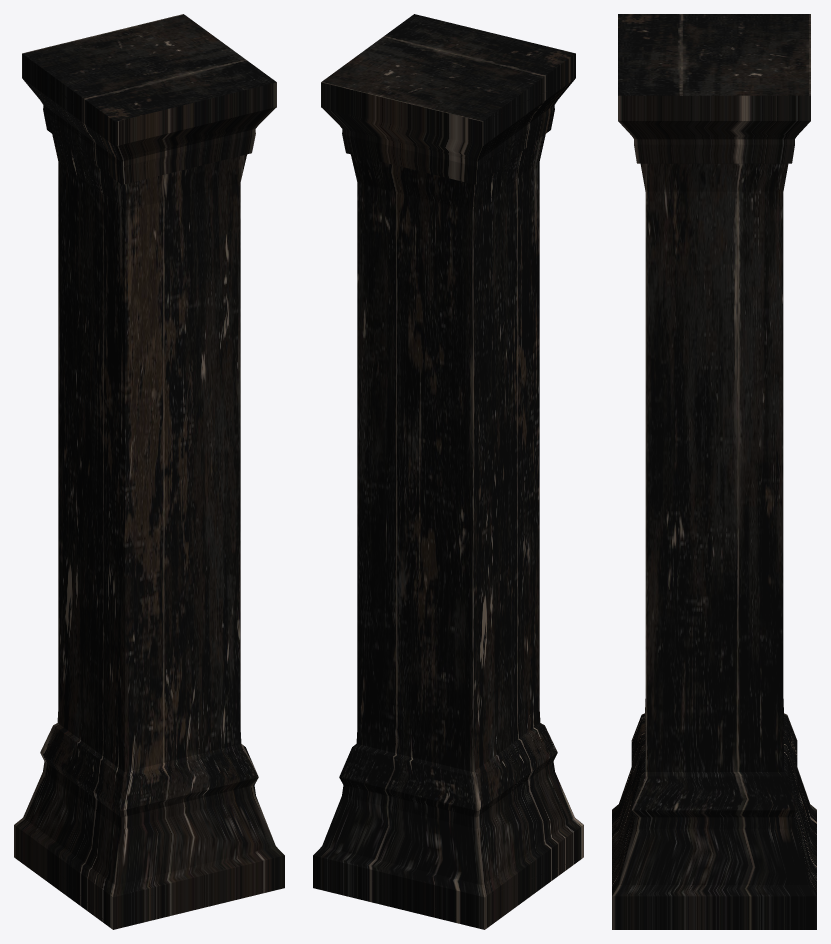
File: Collumn.fbx
3 renders of one model, left to right at view 1: azimuth 30°, elevation 25°; view 2: azimuth 150°, elevation 25°; view 3: azimuth 270°, elevation 25°, orthographic. The views are drawn at different scales.
Visible parts, largest first — view 1: Collumn; view 2: Collumn; view 3: Collumn.
Part boxes in pixels (x1,y1,x2,y2): Collumn: (14,14,284,929); Collumn: (313,14,583,929); Collumn: (612,14,816,929).
Size of the model in its own units: 89.15 by 399 by 89.15.
